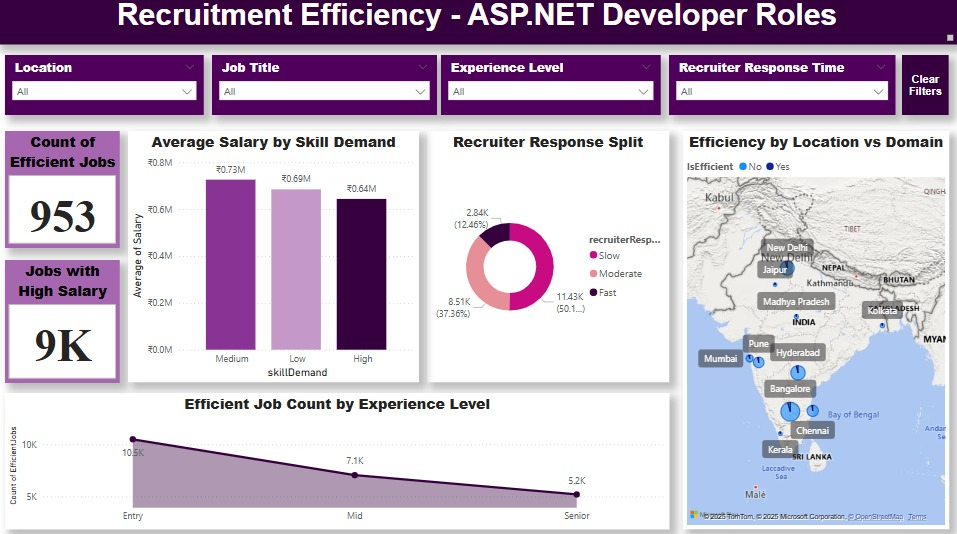

Layout of this report page (visuals, bound fields, positions):
{"tool":"powerbi","page":{"name":"Recruitment Efficiency","canvas":[1280,720],"ordinal":6},"visuals":[{"type":"textbox","title":"Recruitment Efficiency - ASP.NET Developer Roles","box":[0,0,1280,62.2],"z":0},{"type":"slicer","fields":{"Values":["ASP NET.Location"]},"box":[10.6,75.8,265.4,80.4],"z":1000},{"type":"slicer","fields":{"Values":["ASP NET.Job Title"]},"box":[286.6,75.8,300.3,80.4],"z":2000},{"type":"slicer","fields":{"Values":["ASP NET.experienceLevel"]},"box":[591.5,75.8,292.7,80.4],"z":3000},{"type":"cardVisual","title":"Count of Efficient Jobs","fields":{"Data":["CountNonNull(ASP NET.IsEfficient)"]},"box":[10.5,177.9,153.5,155.8],"z":4000},{"type":"cardVisual","title":"Jobs with High Salary","fields":{"Data":["Max(ASP NET.HighSalaryJobs)"]},"box":[10.5,348.8,153.5,164],"z":5000},{"type":"slicer","fields":{"Values":["ASP NET.recruiterResponseTime"]},"box":[896.3,75.8,301.8,80.4],"z":6000},{"type":"donutChart","title":"Recruiter Response Split","fields":{"Category":["ASP NET.recruiterResponseTime"],"Y":["CountNonNull(ASP NET.Job Title)"]},"box":[573.3,177.4,323,335.2],"z":7000},{"type":"columnChart","title":"Average Salary by Skill Demand","fields":{"Category":["ASP NET.skillDemand"],"Y":["Avg(ASP NET.Salary)"]},"box":[174.4,177.9,388.4,334.9],"z":8000},{"type":"lineChart","title":"Efficient Job Count by Experience Level","fields":{"Category":["ASP NET.experienceLevel"],"Y":["CountNonNull(ASP NET.EfficientJobs)"]},"box":[10.6,526.3,885.7,182],"z":9000},{"type":"actionButton","box":[1207.2,75.8,62.2,80.4],"z":10000},{"type":"map","title":"Efficiency by Location vs Domain","fields":{"Category":["ASP NET.Location"],"Series":["ASP NET.IsEfficient"],"Size":["CountNonNull(ASP NET.Job Roles)"]},"box":[914.5,177.4,354.9,530.8],"z":11000}]}

Visuals, with their boxes in screenshot pixels (x1, y1, x2, y2), scaled from the page's 1280x720 canvas onto the 957x534 screenshot:
"Recruitment Efficiency - ASP.NET Developer Roles" textbox: [0, 0, 956, 46]
slicer - ASP NET.Location: [8, 56, 206, 116]
slicer - ASP NET.Job Title: [214, 56, 439, 116]
slicer - ASP NET.experienceLevel: [442, 56, 661, 116]
"Count of Efficient Jobs" cardVisual: [8, 132, 123, 247]
"Jobs with High Salary" cardVisual: [8, 259, 123, 380]
slicer - ASP NET.recruiterResponseTime: [670, 56, 896, 116]
"Recruiter Response Split" donutChart: [429, 132, 670, 380]
"Average Salary by Skill Demand" columnChart: [130, 132, 421, 380]
"Efficient Job Count by Experience Level" lineChart: [8, 390, 670, 525]
actionButton: [903, 56, 949, 116]
"Efficiency by Location vs Domain" map: [684, 132, 949, 525]
